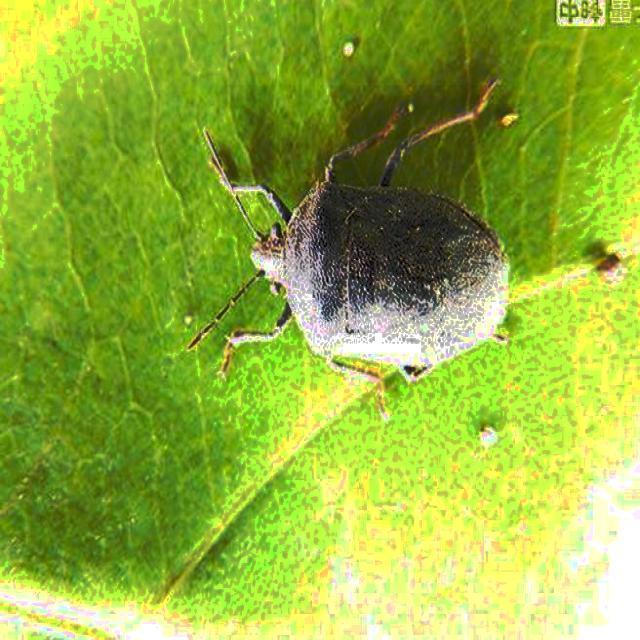rice-bug: (213, 85, 522, 397)
